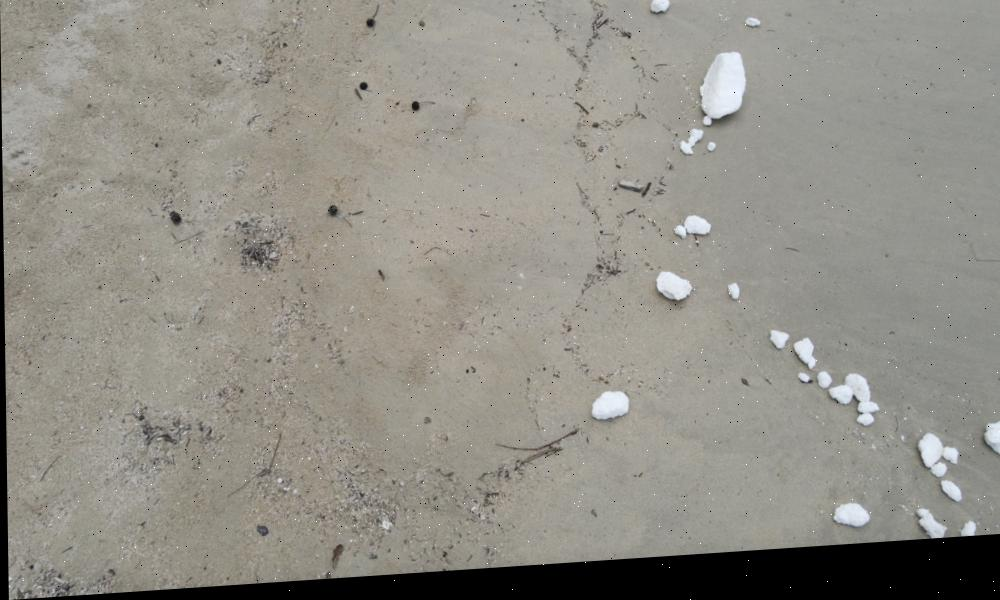styrofoam: (816, 379, 876, 440), (697, 60, 746, 132), (918, 435, 957, 517), (912, 517, 972, 552), (653, 277, 695, 315), (590, 396, 629, 430), (830, 510, 867, 540), (673, 223, 711, 249), (981, 431, 1000, 476), (794, 348, 814, 381), (647, 2, 672, 26), (768, 338, 788, 361)
